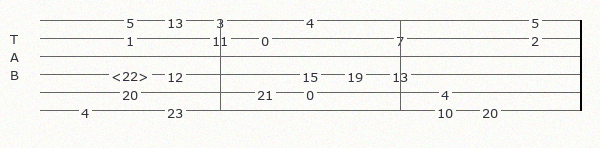0: (261, 32, 273, 45), (306, 86, 318, 99)
1: (126, 32, 138, 45)
10: (437, 104, 457, 117)
11: (212, 32, 232, 45)
12: (167, 68, 187, 81)
13: (167, 14, 187, 27), (392, 68, 412, 81)
15: (302, 68, 322, 81)
19: (347, 68, 367, 81)
2: (531, 32, 543, 45)
20: (122, 86, 142, 99), (482, 104, 502, 117)
21: (257, 86, 277, 99)
23: (167, 104, 187, 117)
3: (216, 14, 228, 27)
4: (81, 104, 93, 117), (306, 14, 318, 27), (441, 86, 453, 99)
5: (126, 14, 138, 27), (531, 14, 543, 27)
7: (396, 32, 408, 45)
harmonic: (111, 67, 153, 81)
